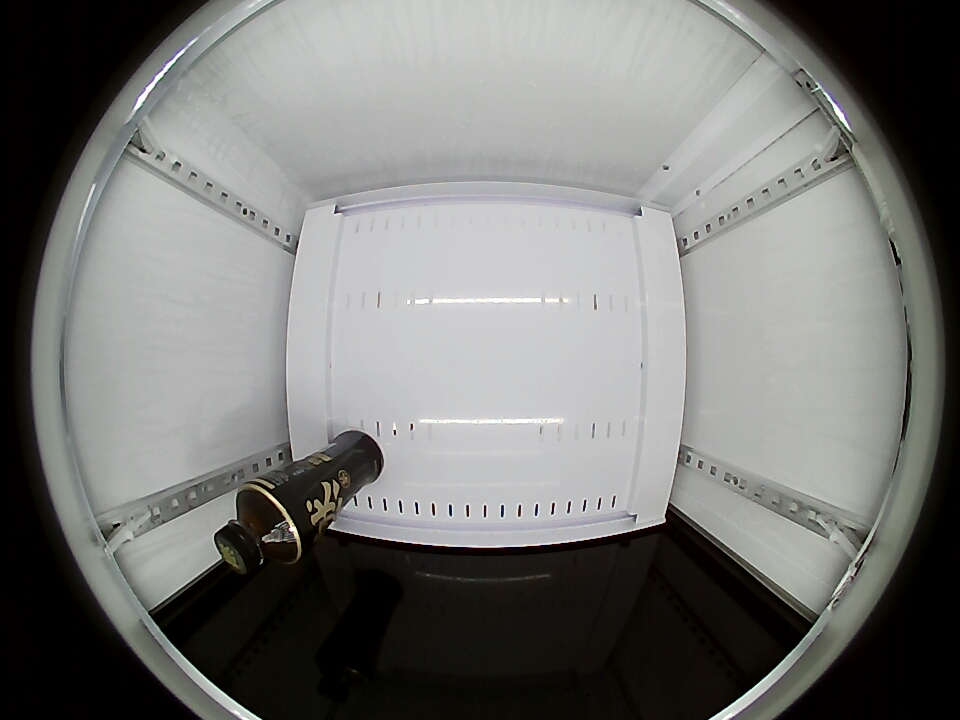rancha-1: (213, 483, 303, 574)
